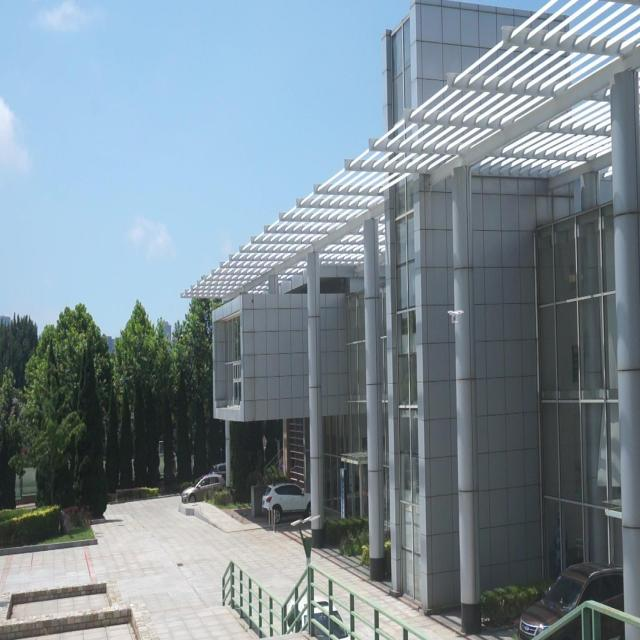drone: (446, 304, 466, 327)
